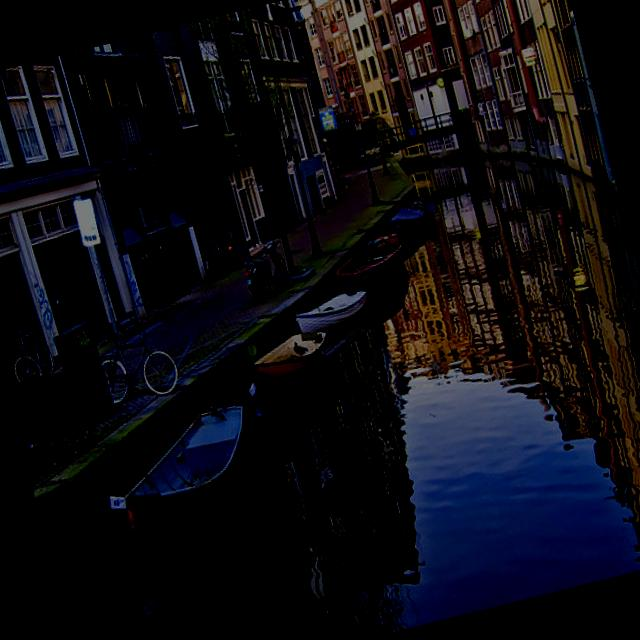Vehicle: (238, 238, 292, 298), (212, 232, 240, 276)
